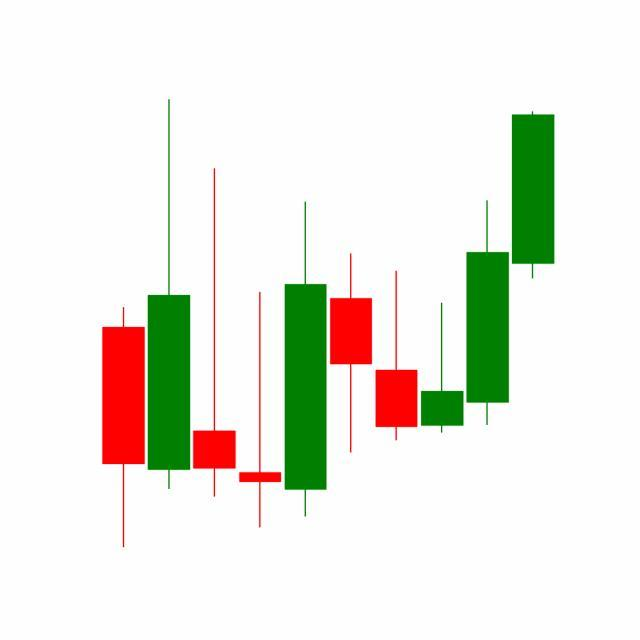Hikkake Pattern: (283, 198, 512, 522)
